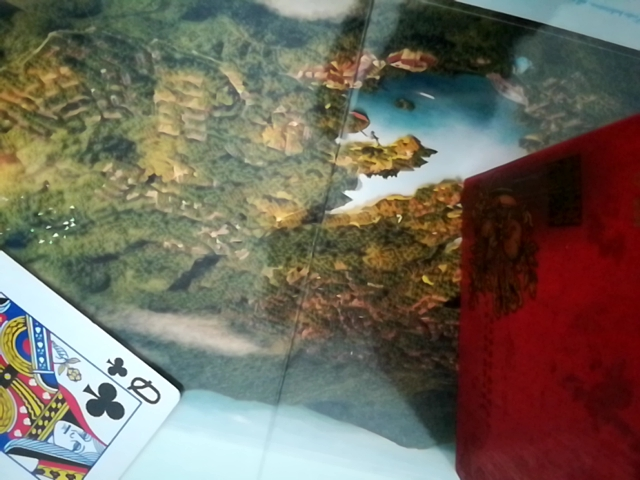mh q: (0, 227, 183, 479)
